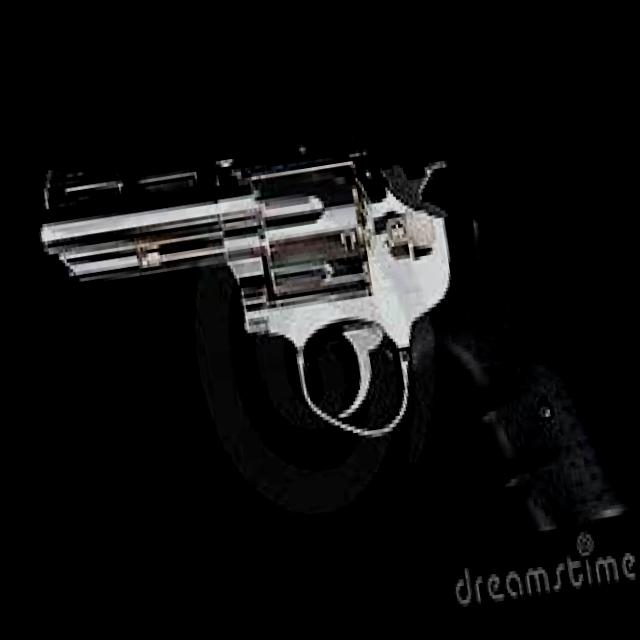handgun: (23, 76, 639, 609)
